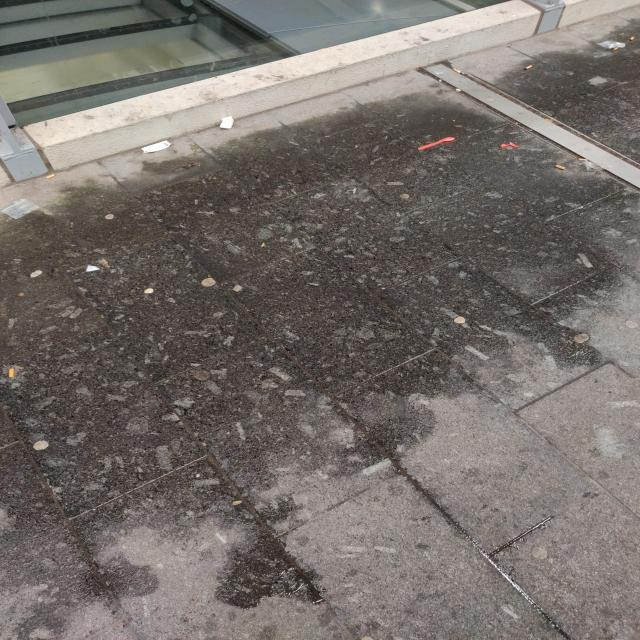litter: (115, 120, 179, 164)
